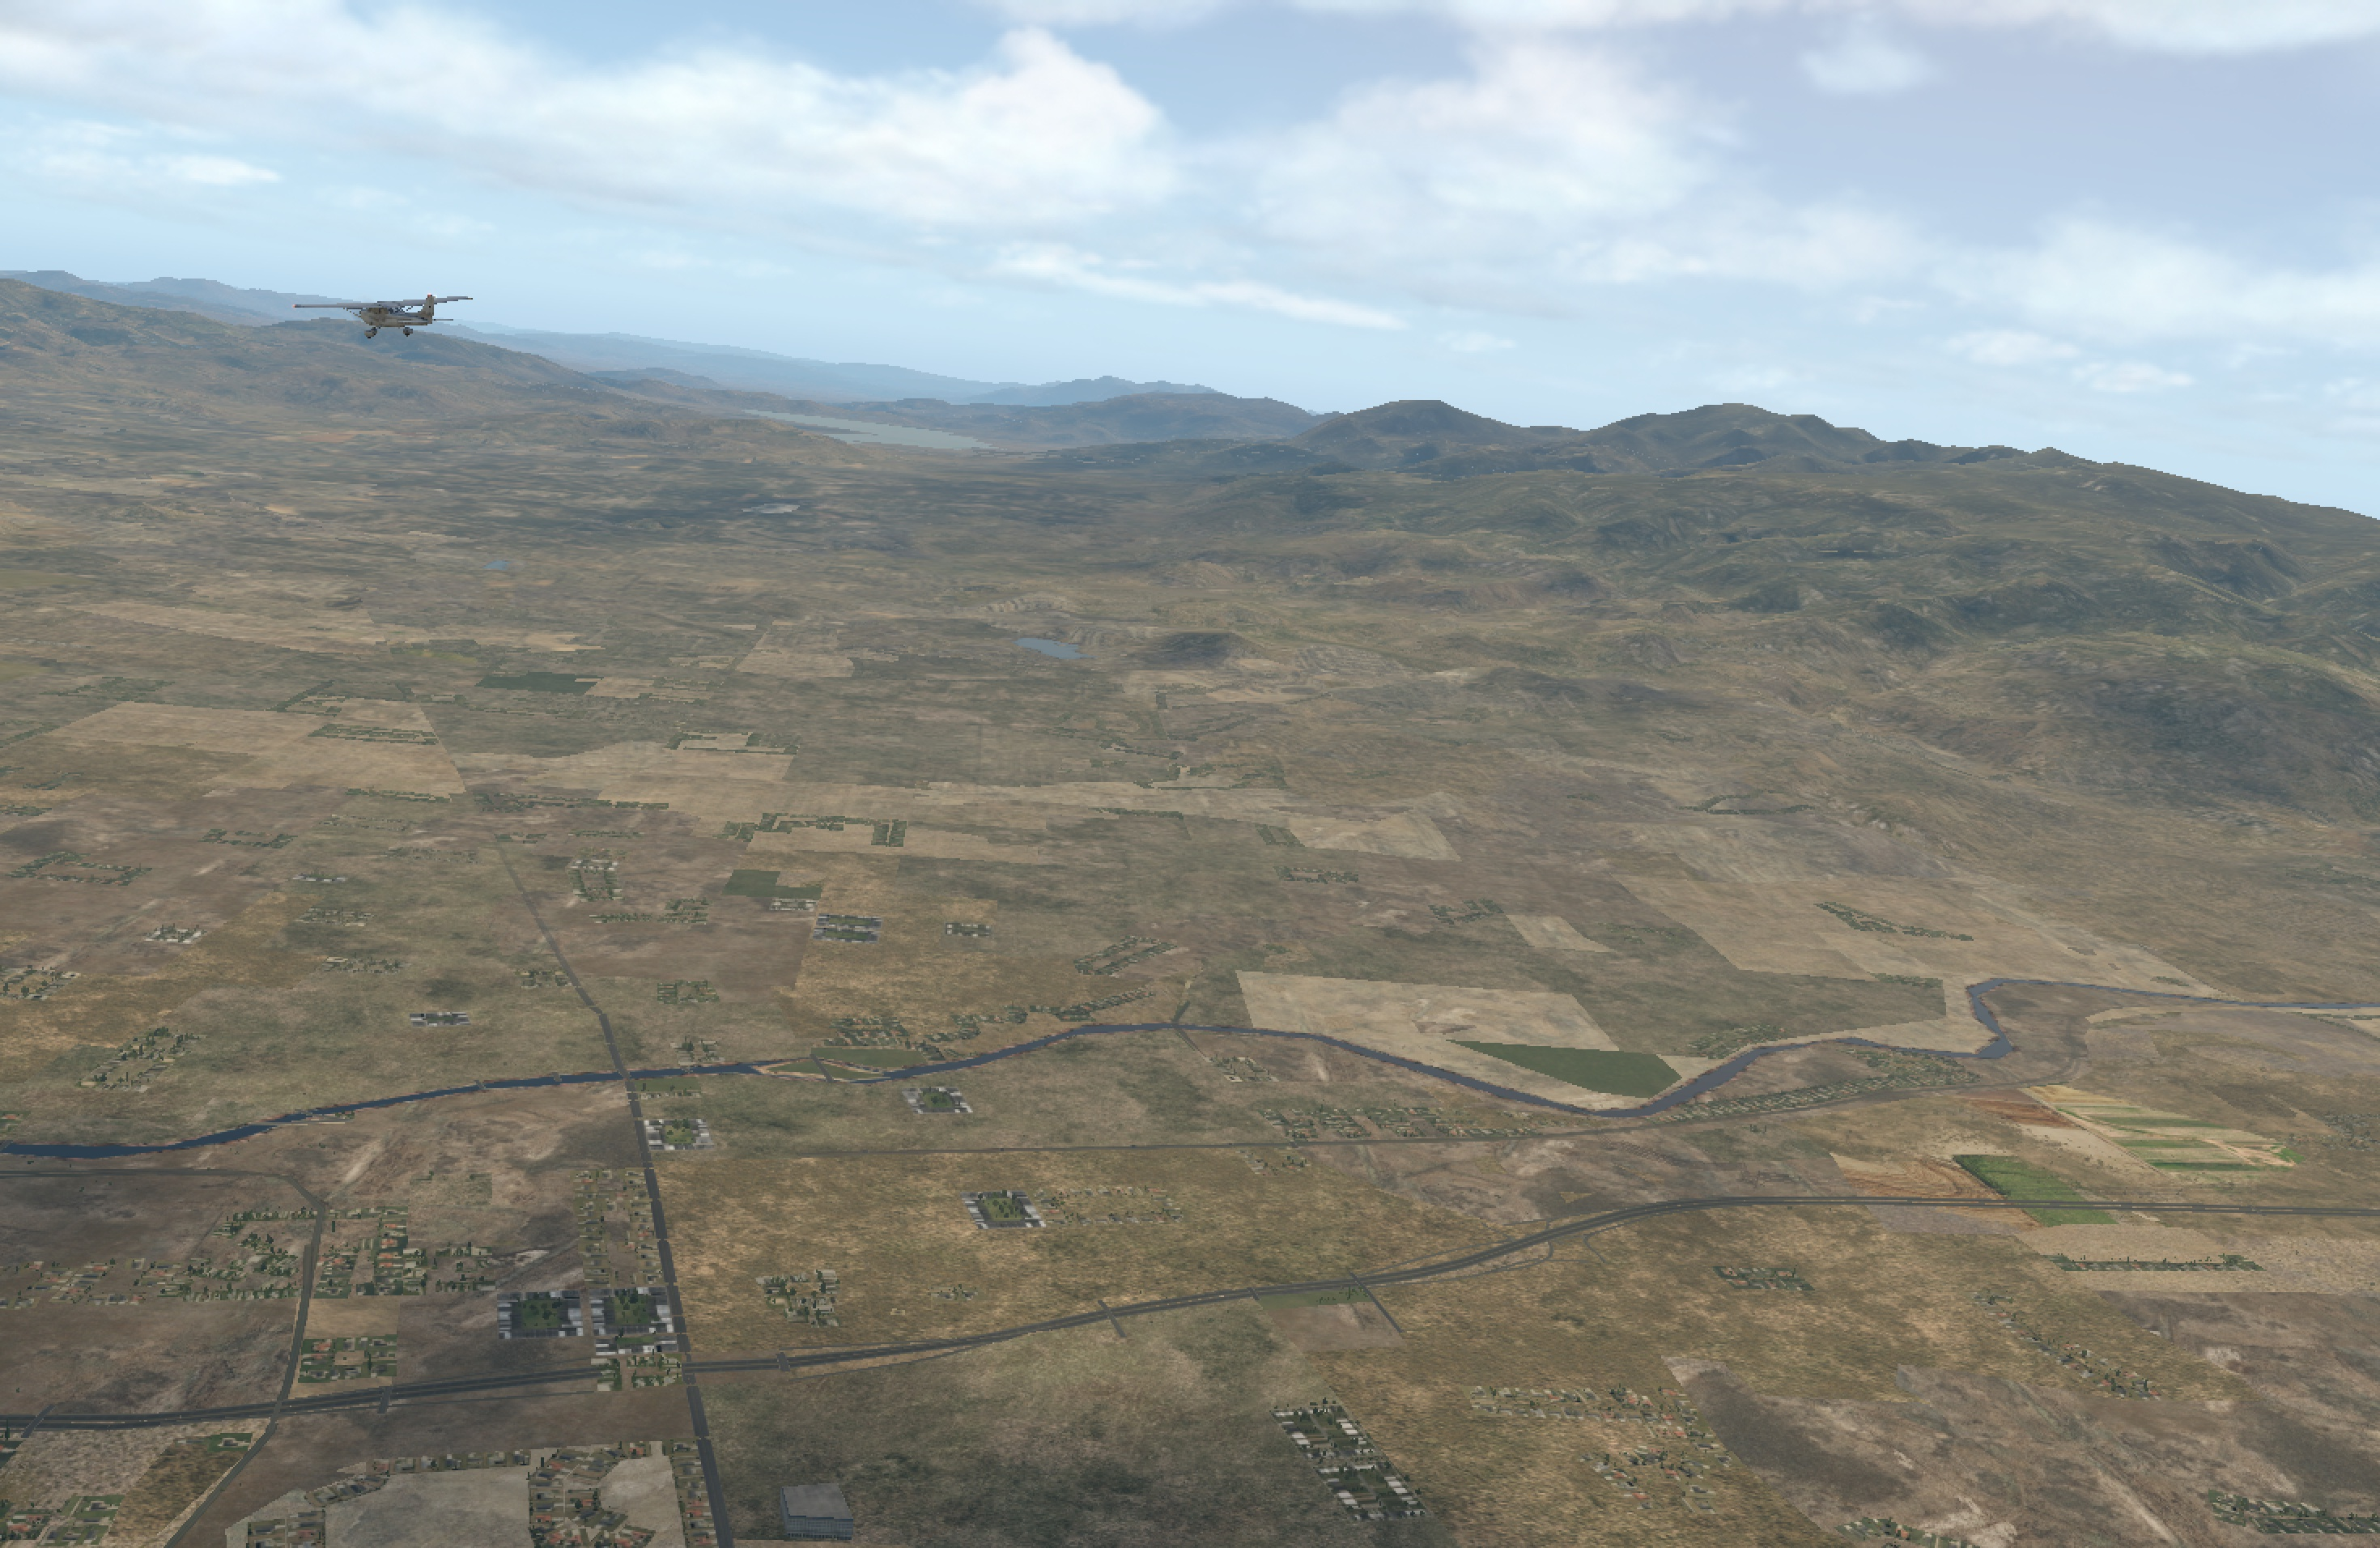aircraft: (323, 292, 444, 337)
